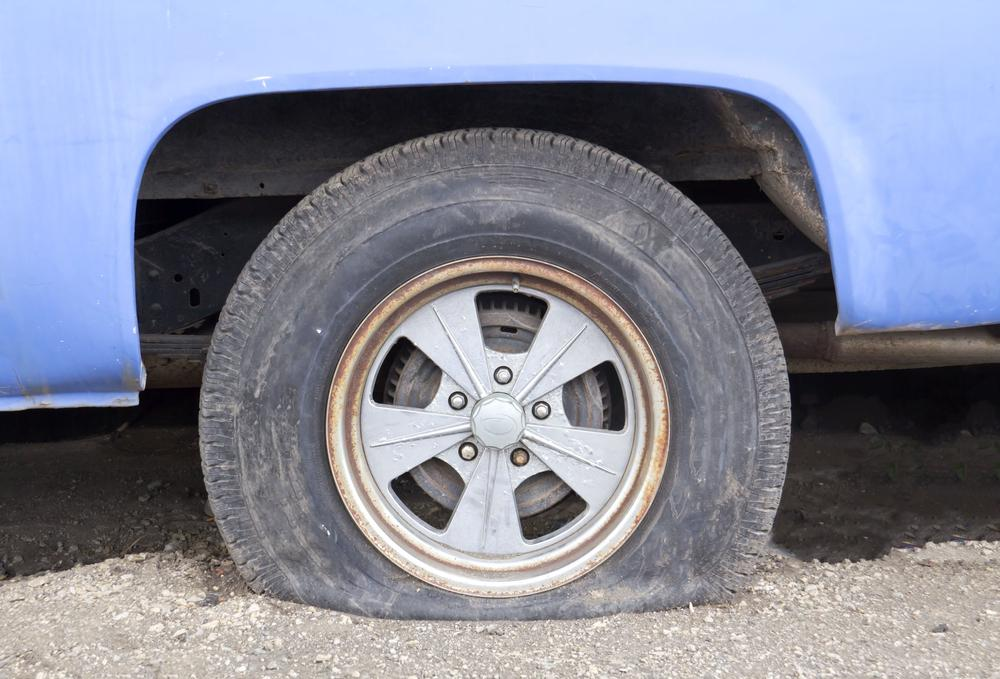tire flat: (197, 131, 786, 621)
